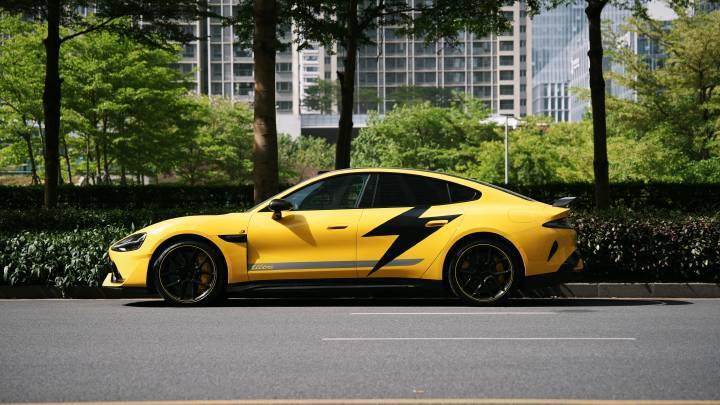su7: (104, 173, 587, 310)
